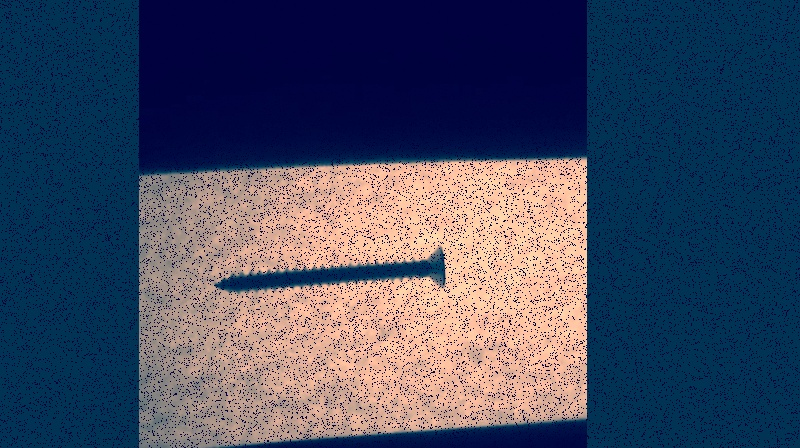S002: (210, 240, 450, 296)
